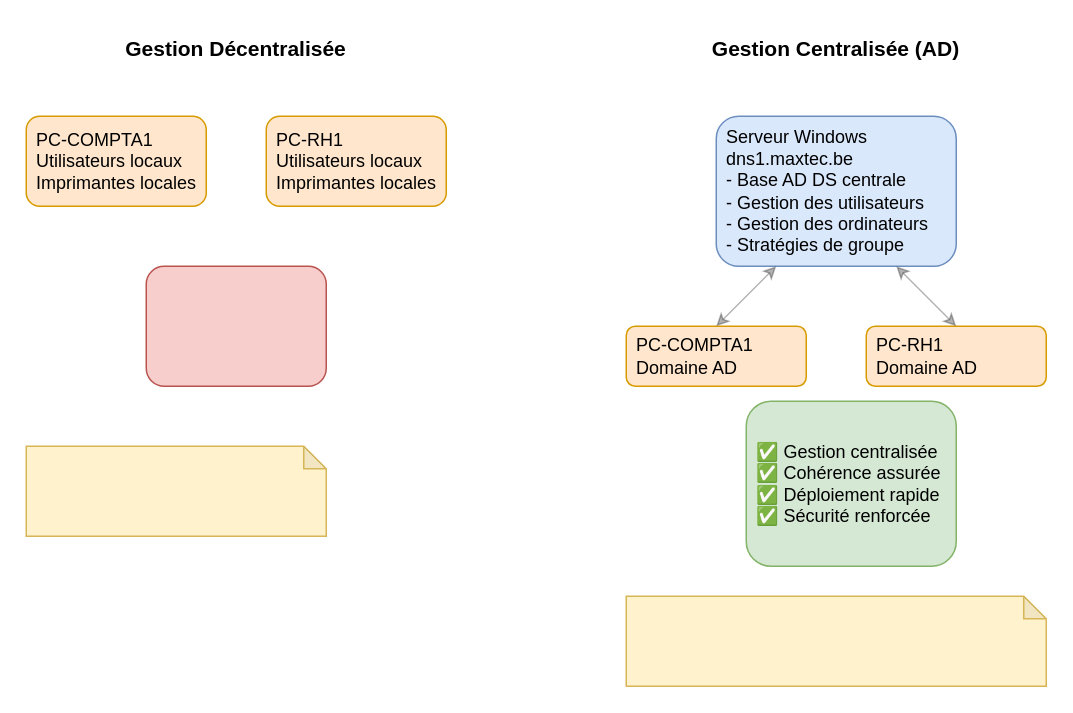
Some shapes in this 1073 by 713 pixel diagram are drawn without their labels. The shapes that lost their labels are listed below. From the top down, each one's centre as x and y in pixels, then its label:
the point at 235,325: ❌ Gestion individuelle ❌ Risque d'oubli ❌ Incohérences ❌ Temps perdu
the point at 175,490: Décentralisé : Chaque PC gère ses propres utilisateurs et ressources
the point at 835,640: Centralisé : Un serveur central gère tout pour l'ensemble du domaine
